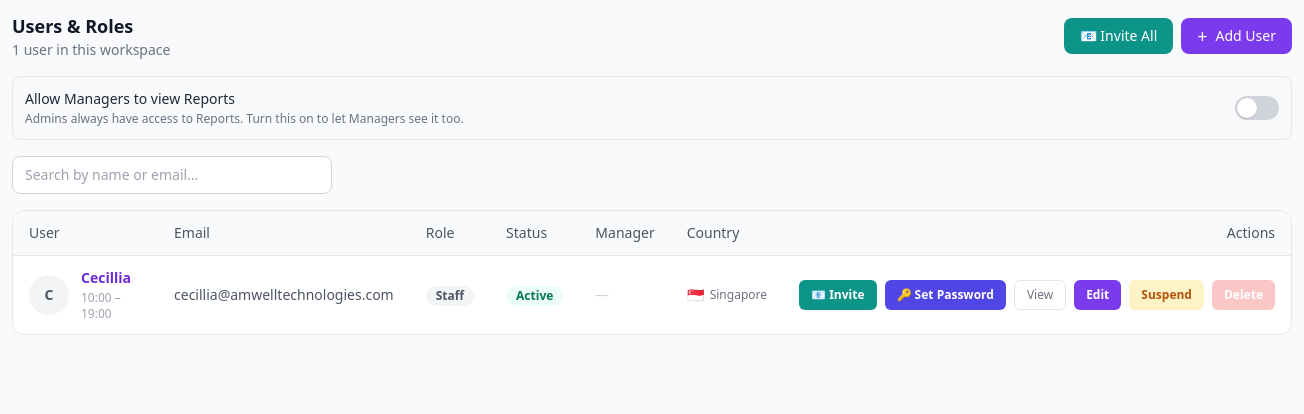
UsersTab — per-row and bulk invite › surfaces an error from the per-row Invite button
Expected: the text "cecillia@amwelltechnologies.com" is shown, [158, 256, 410, 334]
Step 1. Click the button "📧 Invite" → (838, 295), box [799, 280, 876, 310]
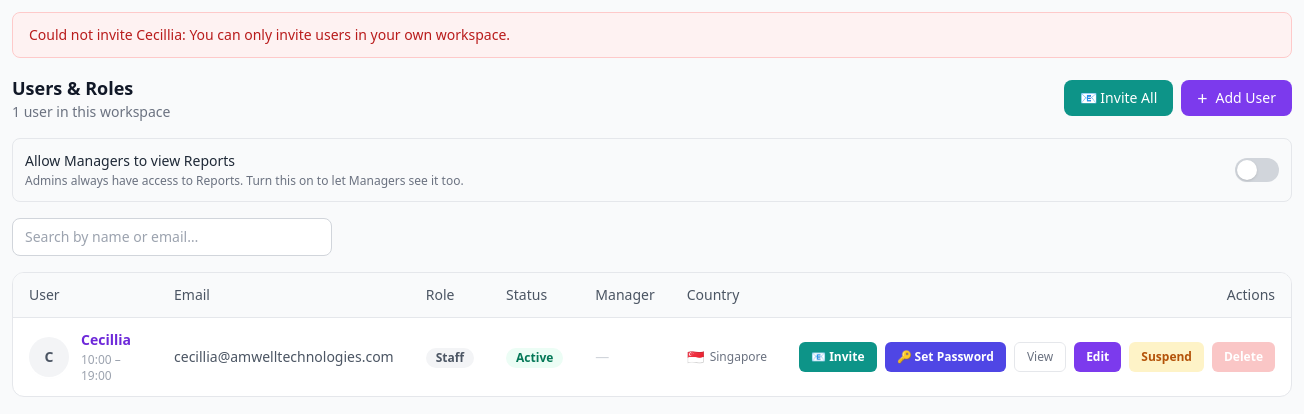
Expected: the text "Could not invite Cecillia" is shown, [29, 25, 510, 44]
